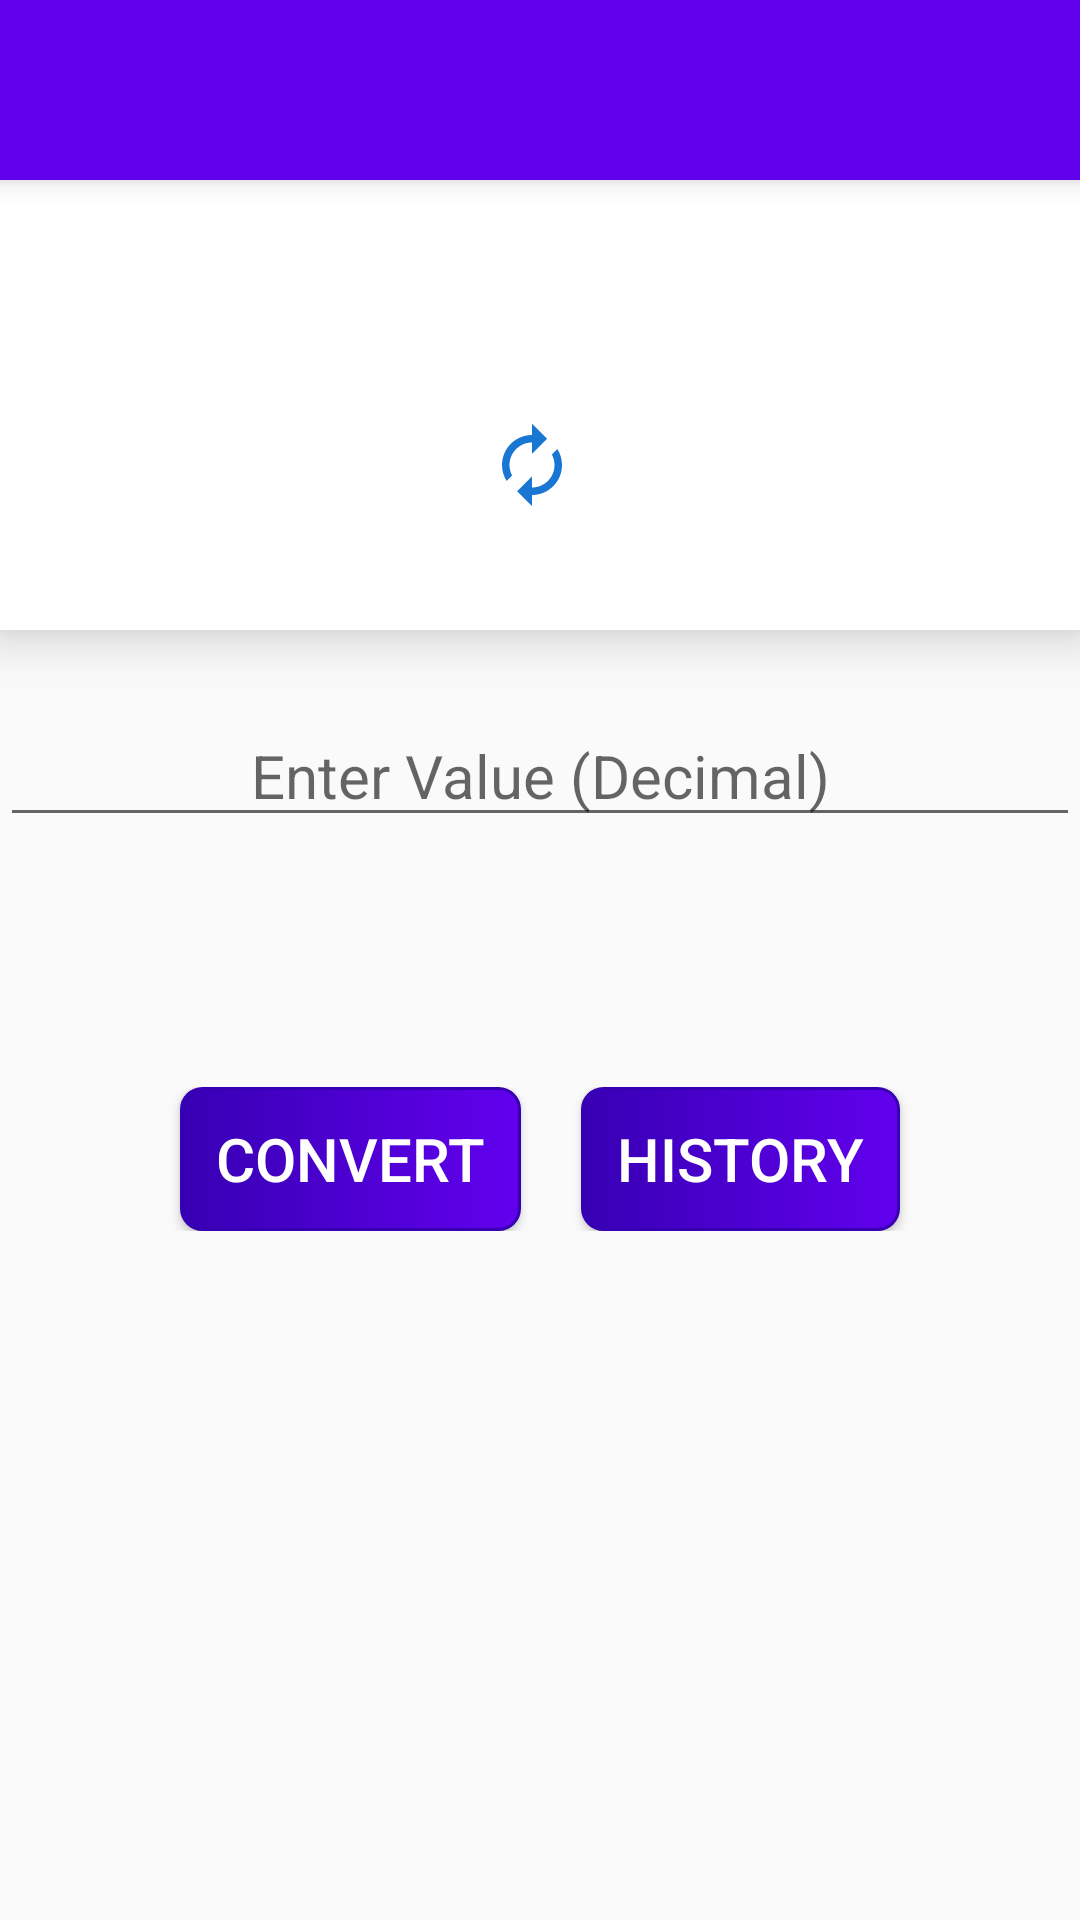

Locate icon controls on the screen. Image size 1080×1920, boxes as {"left": x1, "top": y1, "right": x2, "bottom": y2}.
autorenew: {"left": 502, "top": 424, "right": 562, "bottom": 506}
